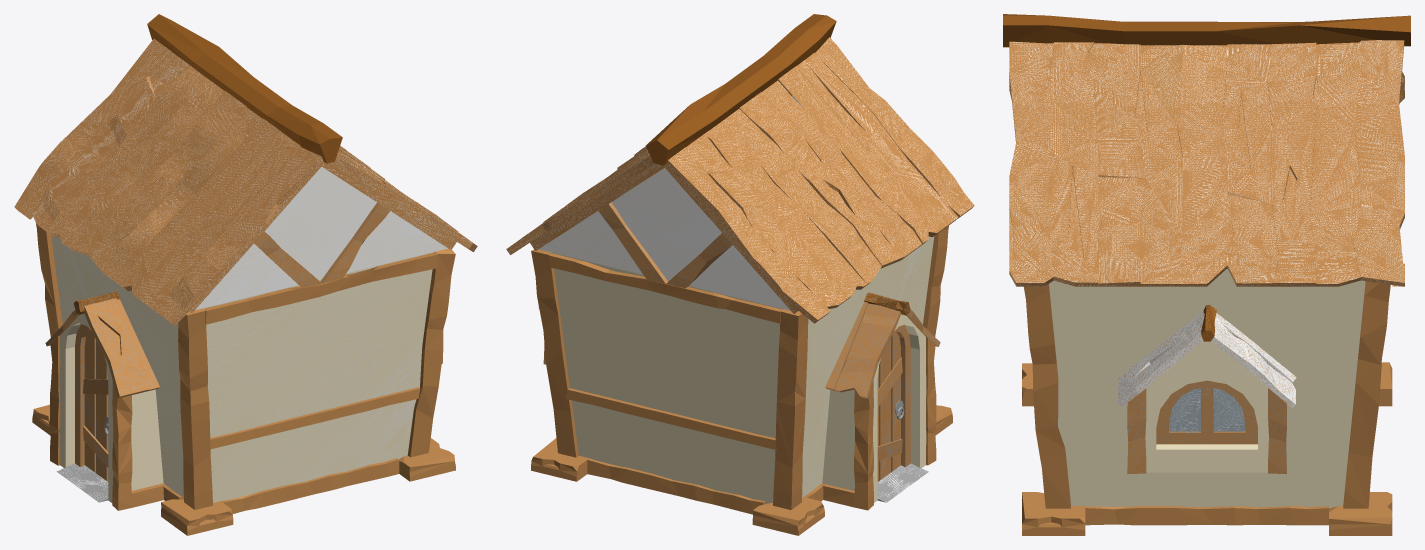
File: House3.fbx
The picture shows the model from 3 angles, left to right: view 1: azimuth 30°, elevation 25°; view 2: azimuth 150°, elevation 25°; view 3: azimuth 270°, elevation 25°; orthographic projection. The views are drawn at different scales.
Parts seen in each view (by area): view 1: Roof1, Hause2_1, G_18_1, G_74_1, G_60_1, G_76_1, G_63_1, Door1, Stolb1, G_52_3, G_88_1, Stolb2_1 (+8 smaller); view 2: Roof1, Hause2_1, G_18_1, G_74_1, G_61_1, G_76_1, G_62_1, Door1, Stolb2, G_52_1, G_88_2, Stolb2_2 (+7 smaller); view 3: Roof1, Hause2_1, G_18_1, G_67_1, G_62_1, G_63_1, Window1, G_36_1, G_52_2, G_77_2, G_77_4, Stolb3_1 (+3 smaller).
Part boxes in pixels (x1,y1,x2,y2): Roof1: (14, 39, 477, 325); Hause2_1: (51, 235, 434, 502); G_18_1: (147, 14, 342, 163); G_74_1: (60, 313, 163, 502); G_60_1: (178, 308, 212, 509); G_76_1: (45, 298, 159, 467); G_63_1: (407, 248, 455, 457); Door1: (75, 324, 108, 481); Stolb1: (204, 252, 437, 324); G_52_3: (221, 458, 399, 513); G_88_1: (209, 387, 420, 449); Stolb2_1: (112, 380, 132, 510); Roof1: (506, 37, 974, 323); Hause2_1: (552, 236, 934, 503); G_18_1: (646, 14, 836, 165); G_74_1: (822, 314, 926, 502); G_61_1: (773, 309, 808, 509); G_76_1: (825, 302, 940, 460); G_62_1: (531, 249, 578, 457); Door1: (877, 324, 910, 481); Stolb2: (549, 253, 781, 323); G_52_1: (587, 458, 765, 514); G_88_2: (566, 388, 776, 449); Stolb2_2: (854, 380, 873, 510); Roof1: (1009, 40, 1404, 286); Hause2_1: (1049, 269, 1365, 508); G_18_1: (1003, 14, 1410, 47); G_67_1: (1145, 340, 1268, 472); G_62_1: (1343, 281, 1390, 508); G_63_1: (1024, 284, 1070, 508); Window1: (1156, 380, 1257, 444); G_36_1: (1117, 310, 1296, 407); G_52_2: (1085, 506, 1328, 525); G_77_2: (1022, 492, 1085, 535); G_77_4: (1329, 492, 1392, 535); Stolb3_1: (1127, 388, 1146, 474).
Bounding box in the file's own units: 3681 × 3847 × 3217.
